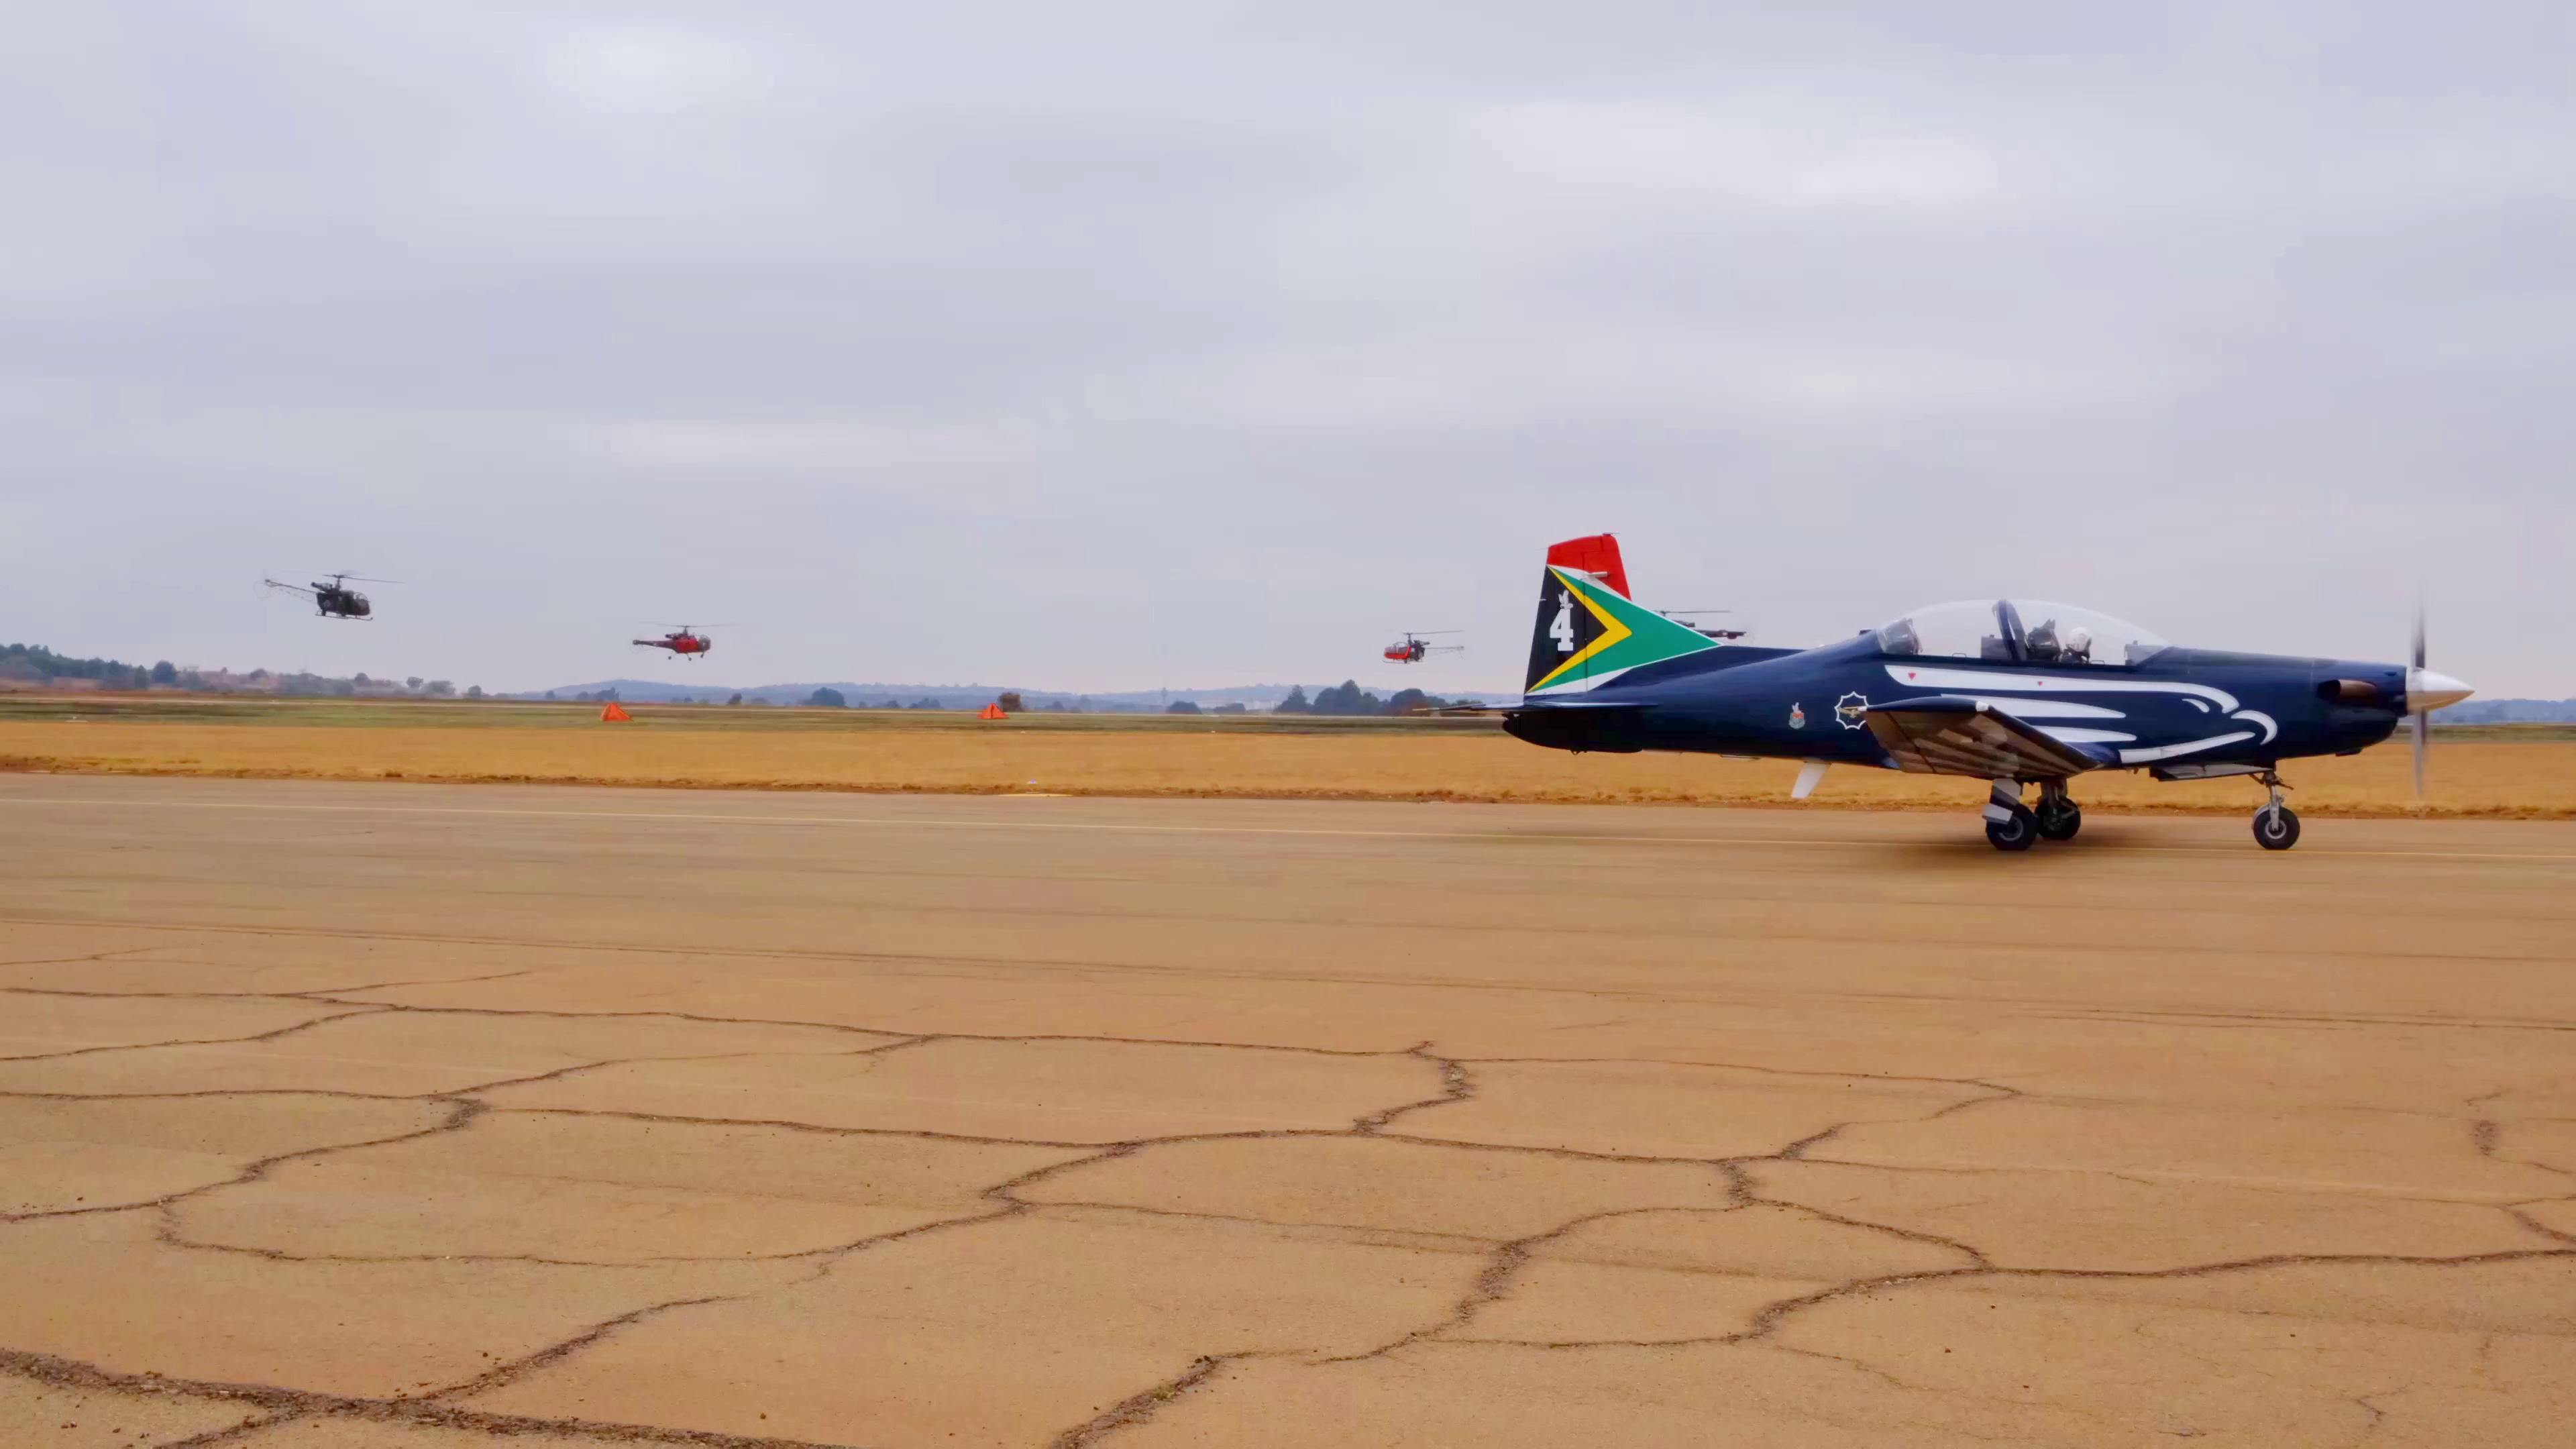heli: (267, 566, 393, 619), (1380, 626, 1472, 669), (633, 623, 725, 660)
plane: (1497, 529, 2473, 849)
